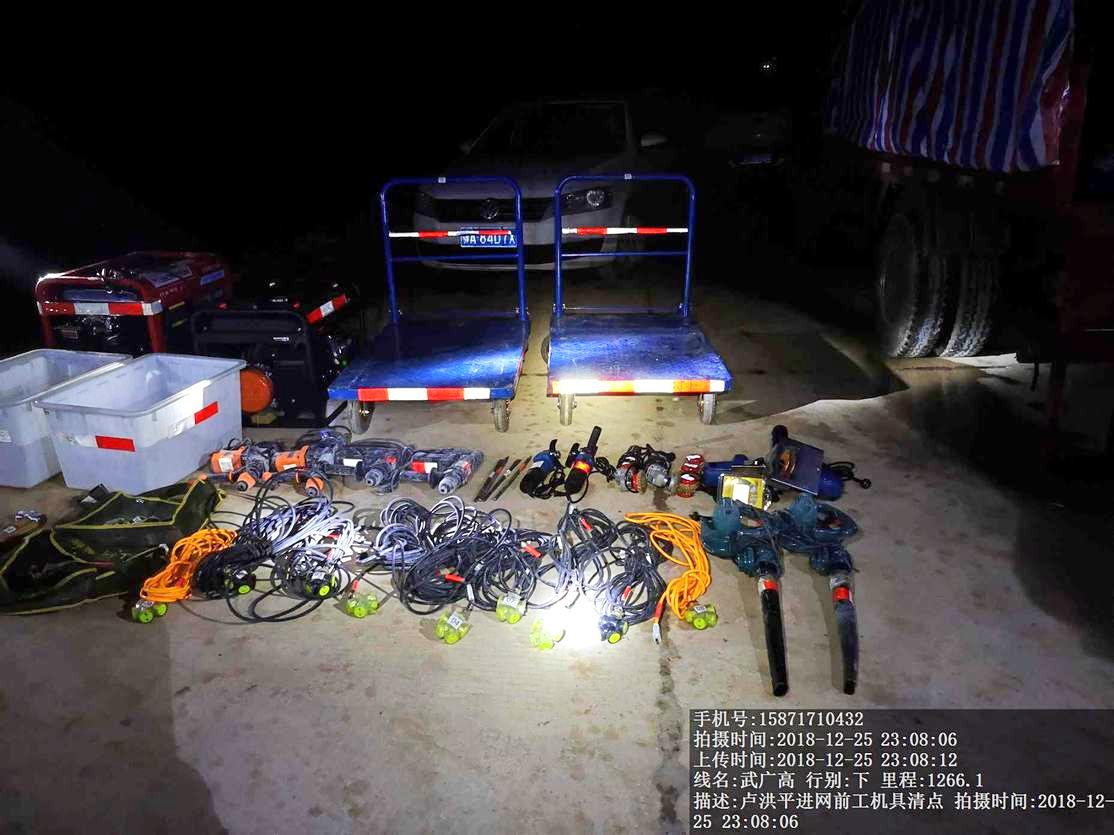DJ: (205, 259, 370, 435), (30, 252, 231, 359)
DX: (638, 503, 723, 636), (414, 494, 483, 635), (133, 529, 235, 618), (480, 510, 534, 626)
DZ: (268, 436, 345, 498), (342, 434, 415, 495), (411, 445, 487, 495)
GFJ: (783, 499, 889, 697), (697, 503, 785, 699)
GJB: (1, 524, 172, 614), (71, 480, 222, 537)
T: (39, 359, 243, 492), (4, 341, 136, 494)
TC: (327, 175, 533, 432), (546, 171, 738, 428)
